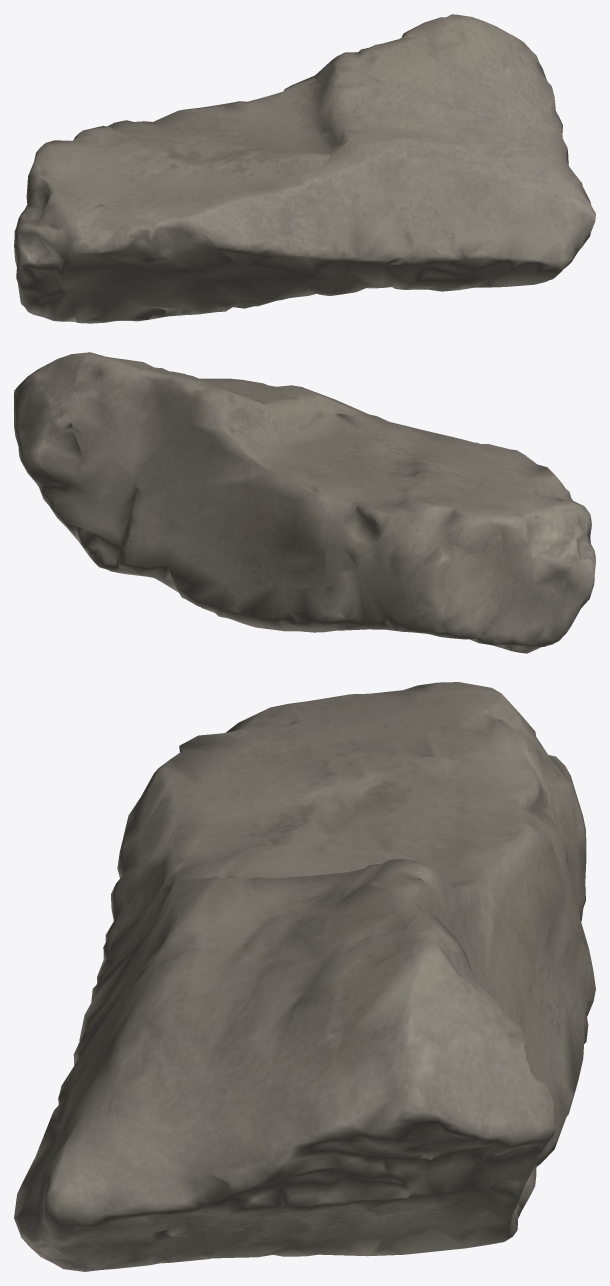
Rendered from moon_rock_01.glb.
3 renders of one model, top to bottom at view 1: azimuth 30°, elevation 25°; view 2: azimuth 150°, elevation 25°; view 3: azimuth 270°, elevation 25°, orthographic. The views are drawn at different scales.
Parts seen in each view (by area): view 1: moon_rock_01_LOD0; view 2: moon_rock_01_LOD0; view 3: moon_rock_01_LOD0.
Part boxes in pixels (bbox=[...]): moon_rock_01_LOD0: bbox=[14, 14, 595, 323]; moon_rock_01_LOD0: bbox=[14, 352, 595, 653]; moon_rock_01_LOD0: bbox=[14, 682, 595, 1271].
Size of what is drawn, in the model's own units: 0.2121 by 0.0751 by 0.1116.
Materials: 1 (1 with a texture image).
